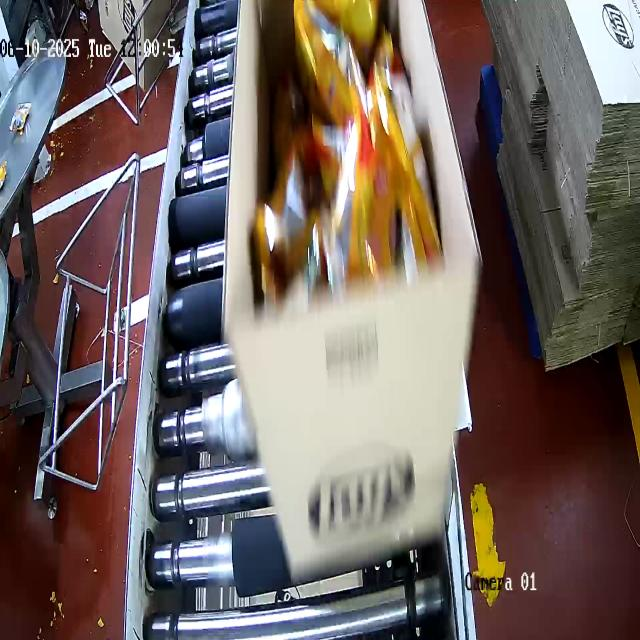FRENCH_CHEESE: (253, 10, 430, 298)
